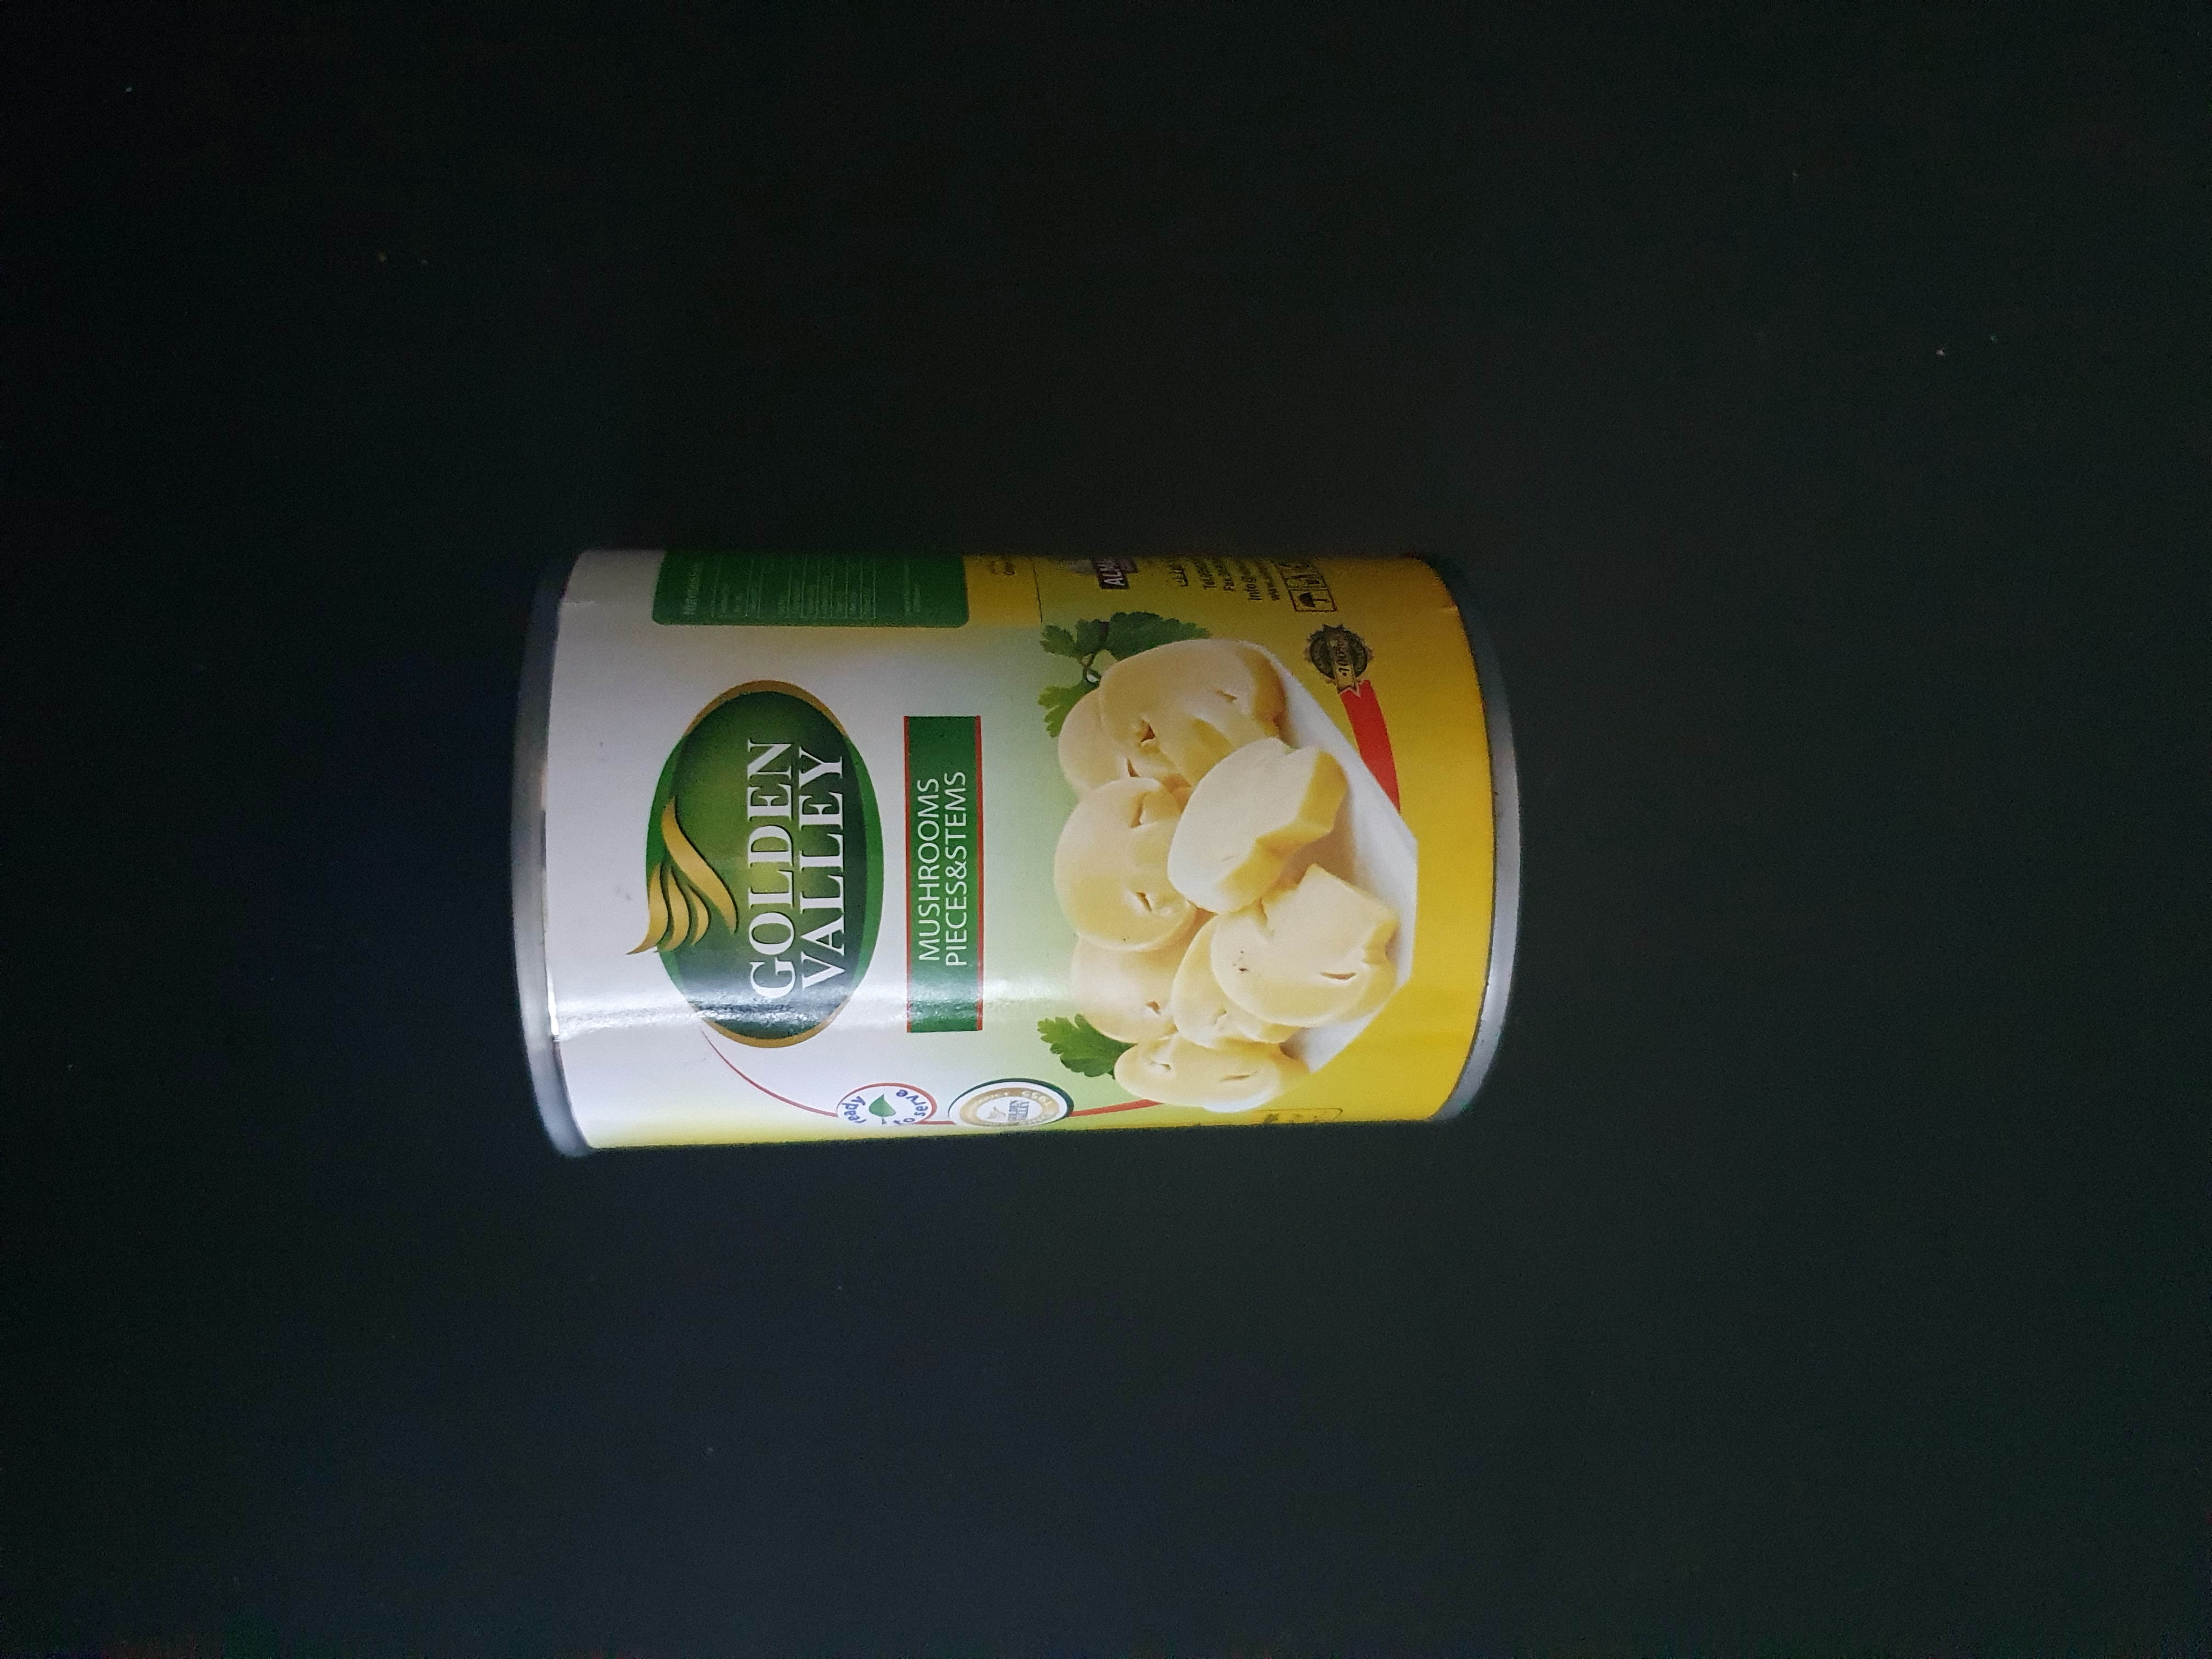metal: (448, 484, 1575, 1209)
